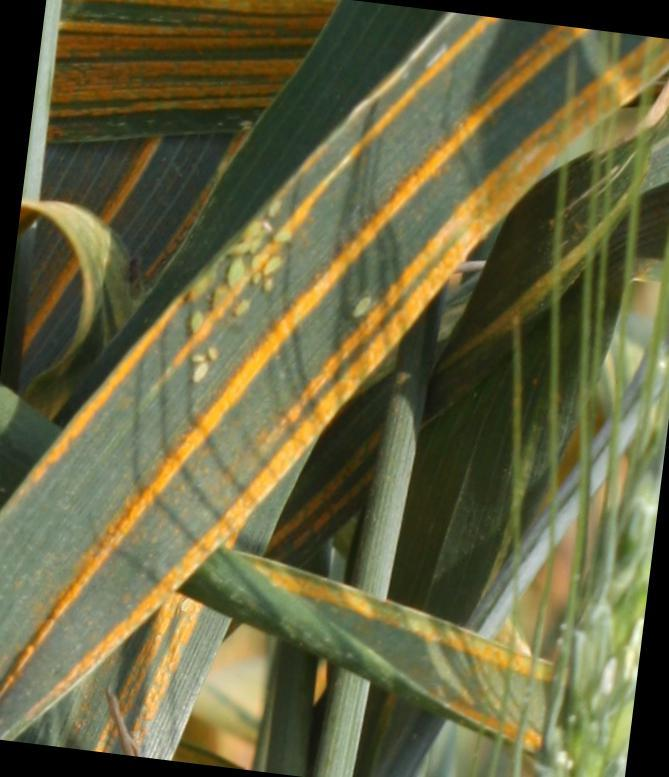Wheat: (24, 80, 510, 694), (46, 0, 352, 128)
